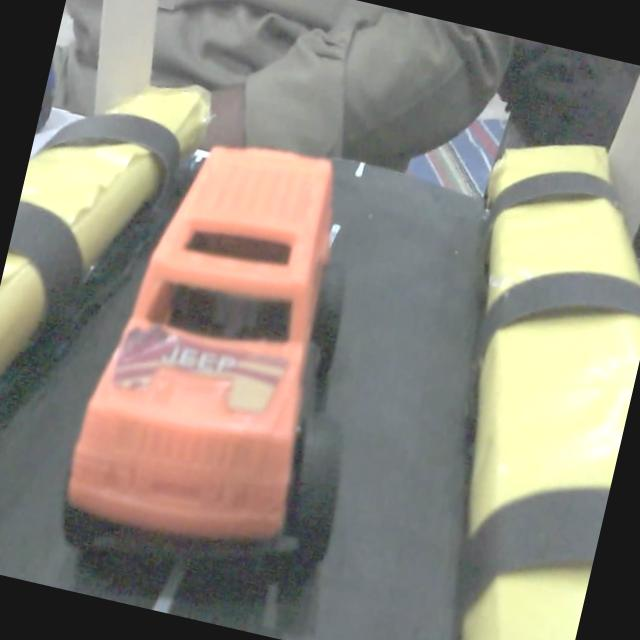OneCar: (63, 146, 343, 585)
